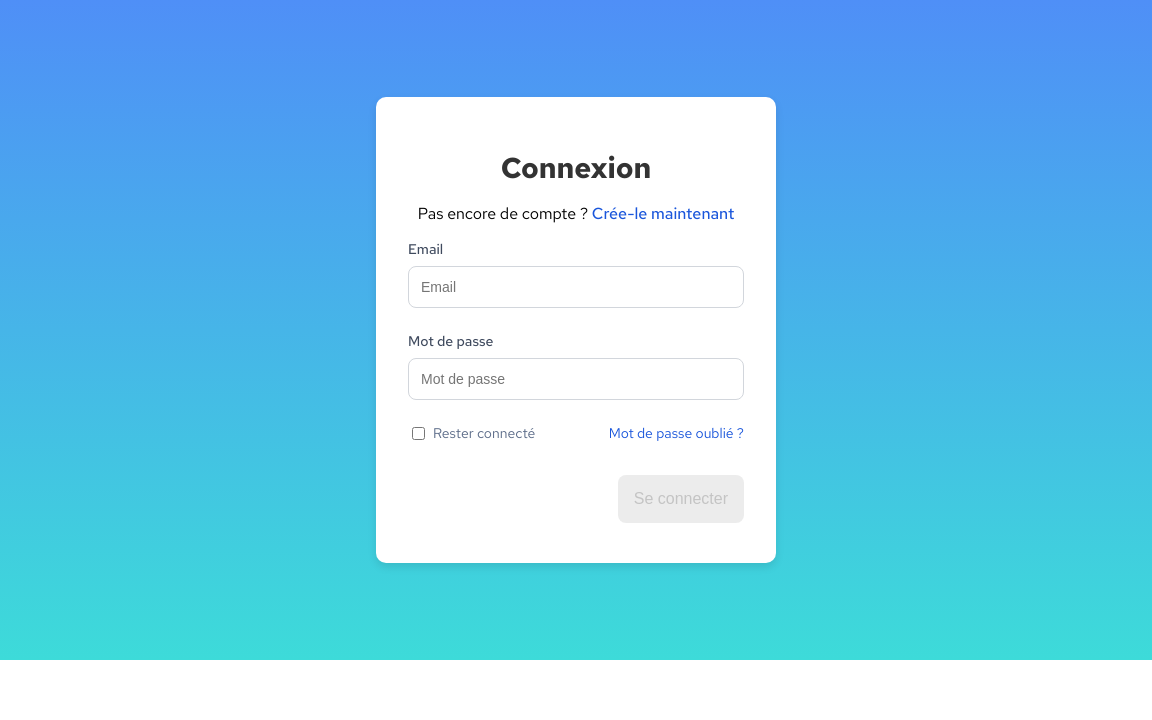
Test: LoginPage › Form Validation › should enable submit button when fields are filled
Type "test@test.com" into the field labelled "Email". click: (576, 287)
box: [408,266,744,308]
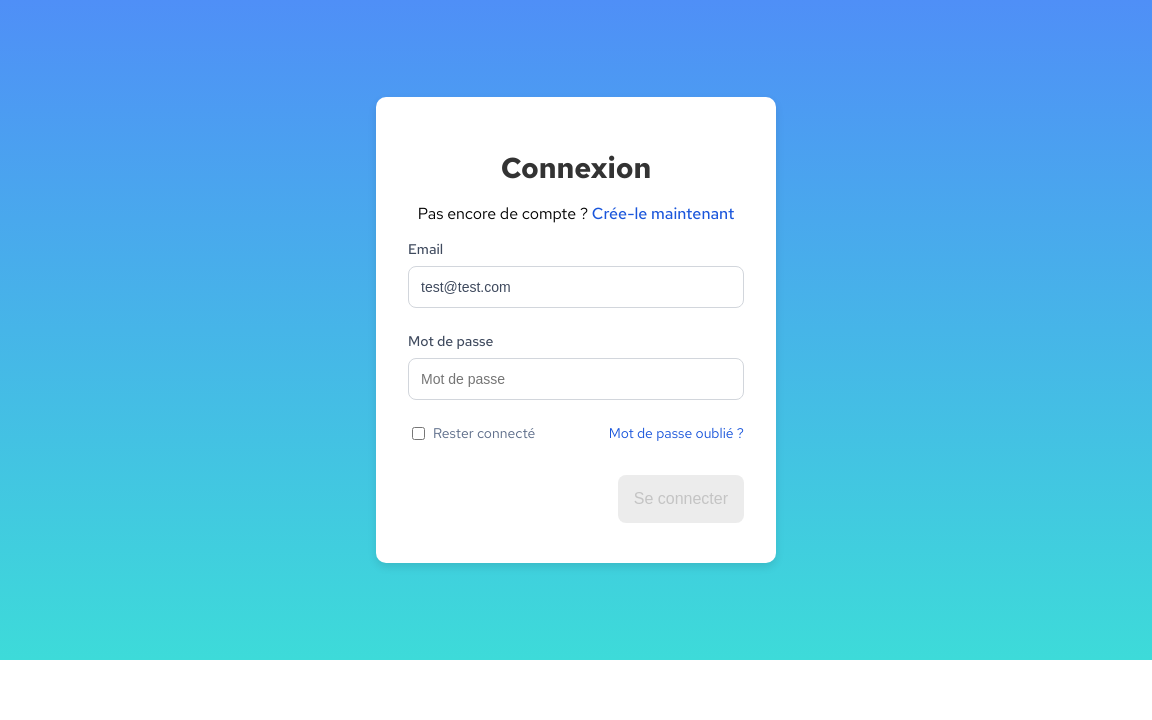
Type "password123" into the password field labelled "Mot de passe". click: (576, 379)
box: [408,358,744,400]
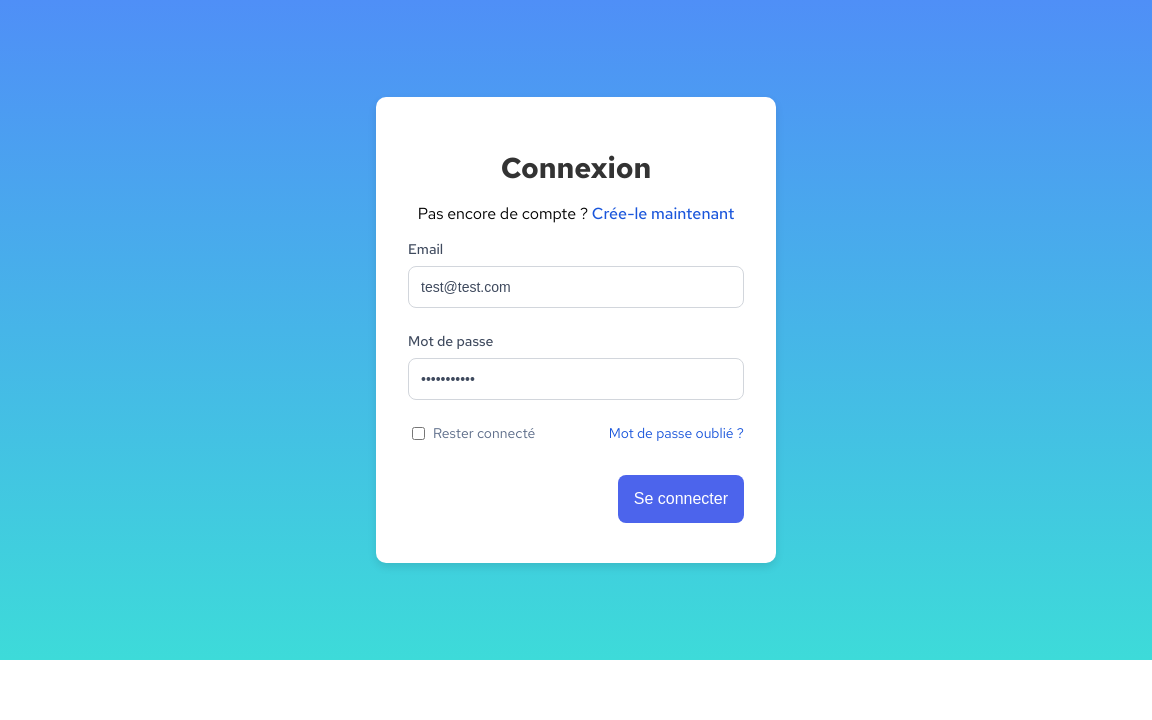
Expected: the button "Se connecter" is enabled, [618,475,744,523]
